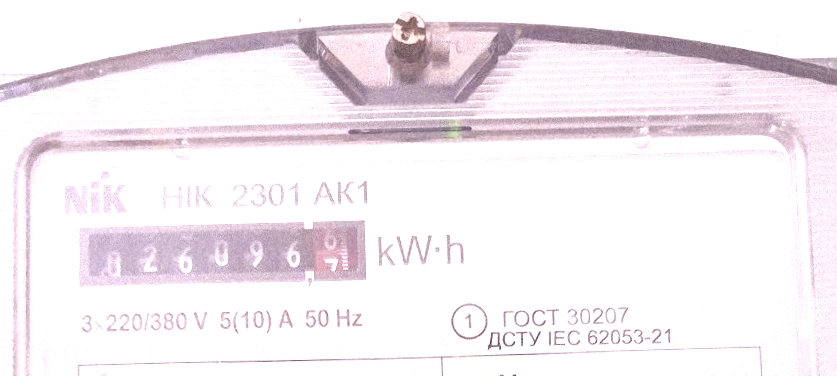0: (210, 235, 231, 271), (102, 246, 123, 278)
2: (138, 241, 160, 276)
6: (175, 242, 195, 278), (283, 236, 302, 270), (320, 225, 340, 253)
7: (322, 254, 340, 276)
9: (246, 237, 266, 270)
screen: (68, 210, 375, 299)
